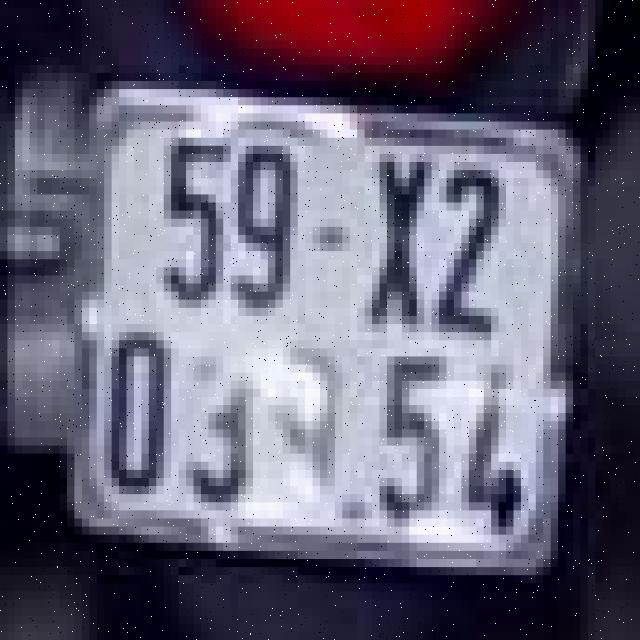0: (97, 316, 171, 510)
2: (436, 150, 502, 344)
3: (190, 332, 264, 519)
4: (462, 352, 528, 555)
5: (372, 344, 447, 547), (153, 121, 227, 308)
9: (276, 332, 342, 535), (238, 134, 305, 320)
X: (361, 150, 435, 336)
